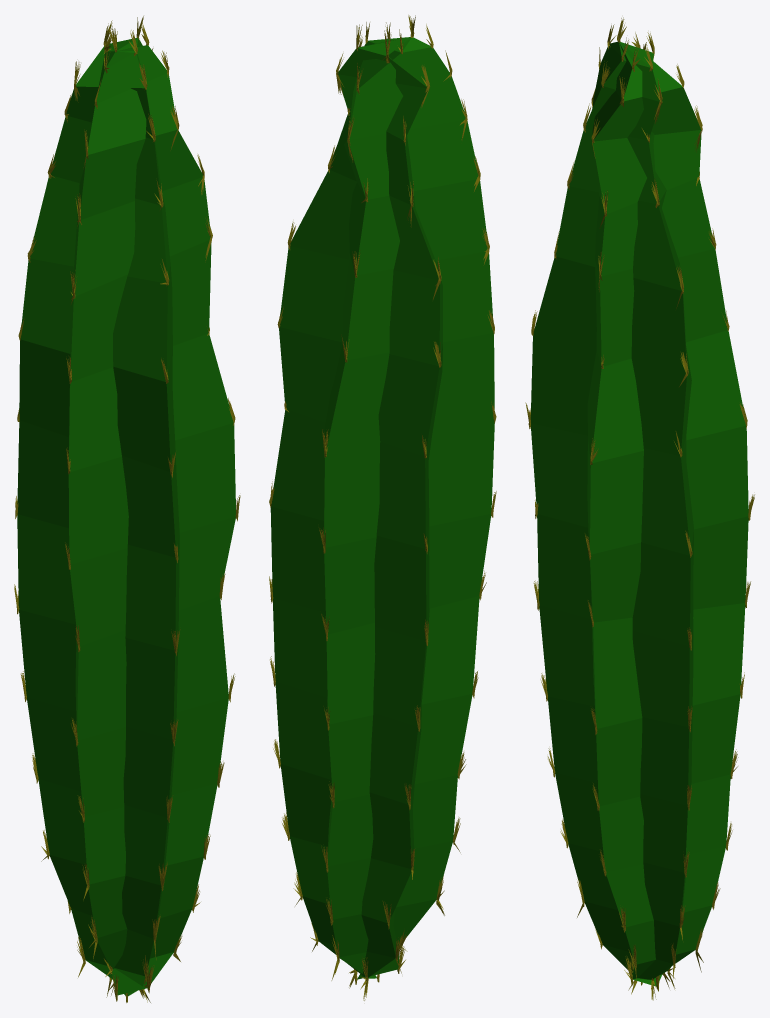
The model's file is chilayo.glb.
The picture shows the model from 3 angles, left to right: view 1: azimuth 30°, elevation 25°; view 2: azimuth 150°, elevation 25°; view 3: azimuth 270°, elevation 25°; orthographic projection. The views are drawn at different scales.
Parts seen in each view (by area): view 1: Sphere; view 2: Sphere; view 3: Sphere.
Boxes of the visible parts, x1,y1,x2,y2 form: Sphere: [17, 38, 235, 996]; Sphere: [270, 37, 494, 979]; Sphere: [530, 41, 748, 986].
Bounding box in the file's own units: 1.88 × 10.06 × 2.17.
